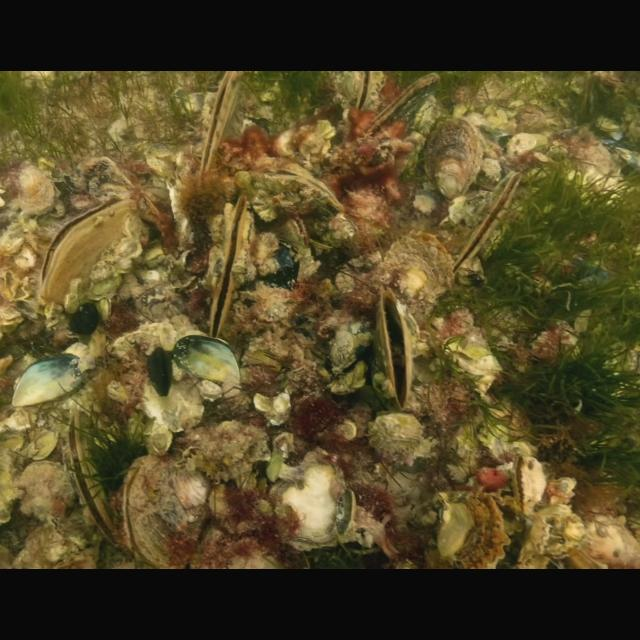Oyster-Closed: (120, 452, 210, 570), (381, 230, 457, 330), (422, 116, 488, 202), (362, 72, 442, 142)
Oyster-Open: (39, 196, 137, 308), (435, 492, 549, 570), (449, 170, 526, 278), (65, 412, 118, 550), (244, 161, 346, 227), (205, 196, 251, 342), (374, 284, 416, 416), (196, 70, 240, 180), (509, 454, 547, 514), (274, 216, 314, 254), (351, 71, 381, 115)
